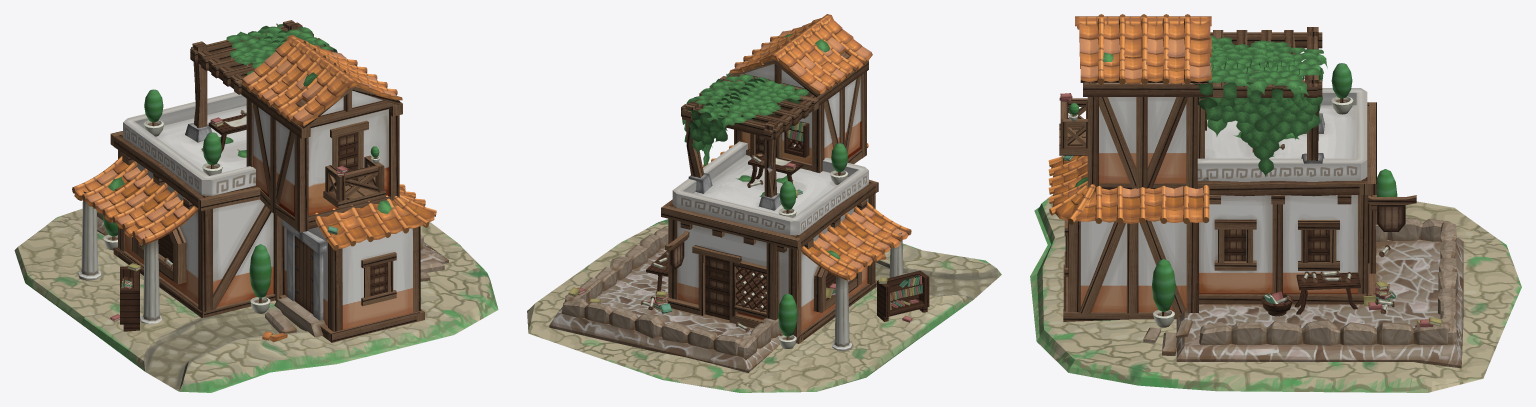
File: ancient_greek_book_shop.glb
3 renders of one model, left to right at view 1: azimuth 30°, elevation 25°; view 2: azimuth 150°, elevation 25°; view 3: azimuth 270°, elevation 25°, orthographic. The views are drawn at different scales.
Parts seen in each view (by area): view 1: Object012_Material #130_0, Plane001, Object014_Material #129_0, Box015, Object013_Material #127_0, Box013, Object015_Material #124_0; view 2: Object012_Material #130_0, Plane001, Object014_Material #129_0, Box013, Object013_Material #127_0, Object015_Material #124_0, Box015; view 3: Object012_Material #130_0, Plane001, Object014_Material #129_0, Box013, Object013_Material #127_0, Box015, Object015_Material #124_0, Object016_Material #130_0.
Part boxes in pixels (x1=…): Object012_Material #130_0: x1=97, y1=20, x2=444, y2=342; Plane001: x1=14, y1=208, x2=498, y2=392; Object014_Material #129_0: x1=72, y1=35, x2=436, y2=342; Box015: x1=224, y1=86, x2=412, y2=329; Object013_Material #127_0: x1=110, y1=117, x2=348, y2=321; Box013: x1=78, y1=132, x2=448, y2=324; Object015_Material #124_0: x1=108, y1=23, x2=394, y2=213; Object012_Material #130_0: x1=561, y1=52, x2=929, y2=360; Plane001: x1=527, y1=219, x2=1001, y2=392; Object014_Material #129_0: x1=673, y1=14, x2=911, y2=280; Box013: x1=549, y1=135, x2=903, y2=372; Object013_Material #127_0: x1=568, y1=121, x2=922, y2=332; Object015_Material #124_0: x1=682, y1=33, x2=840, y2=259; Box015: x1=673, y1=60, x2=861, y2=265; Object012_Material #130_0: x1=1059, y1=27, x2=1457, y2=355; Plane001: x1=1030, y1=194, x2=1521, y2=392; Object014_Material #129_0: x1=1048, y1=14, x2=1367, y2=224; Box013: x1=1176, y1=229, x2=1463, y2=368; Object013_Material #127_0: x1=1059, y1=93, x2=1441, y2=327; Box015: x1=1080, y1=83, x2=1402, y2=312; Object015_Material #124_0: x1=1075, y1=35, x2=1327, y2=188; Object016_Material #130_0: x1=1294, y1=272, x2=1360, y2=314.
Bounding box in the file's own units: 86.48 × 59.55 × 93.39.
Materials: 7 (7 with a texture image).
